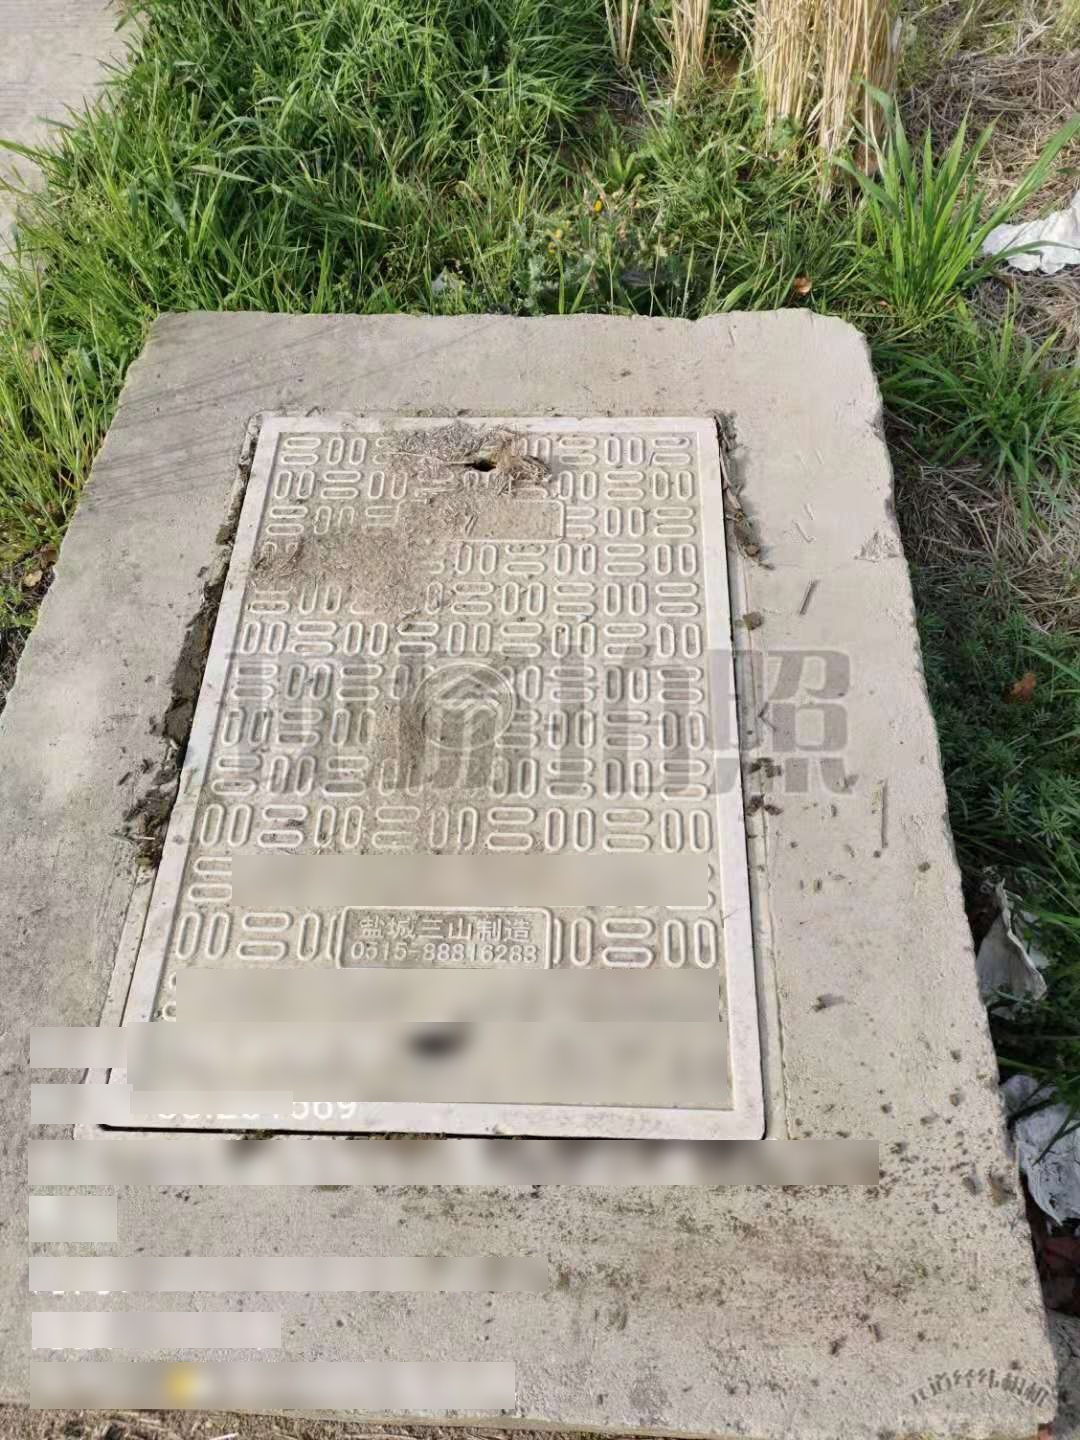good: (144, 310, 799, 1167)
